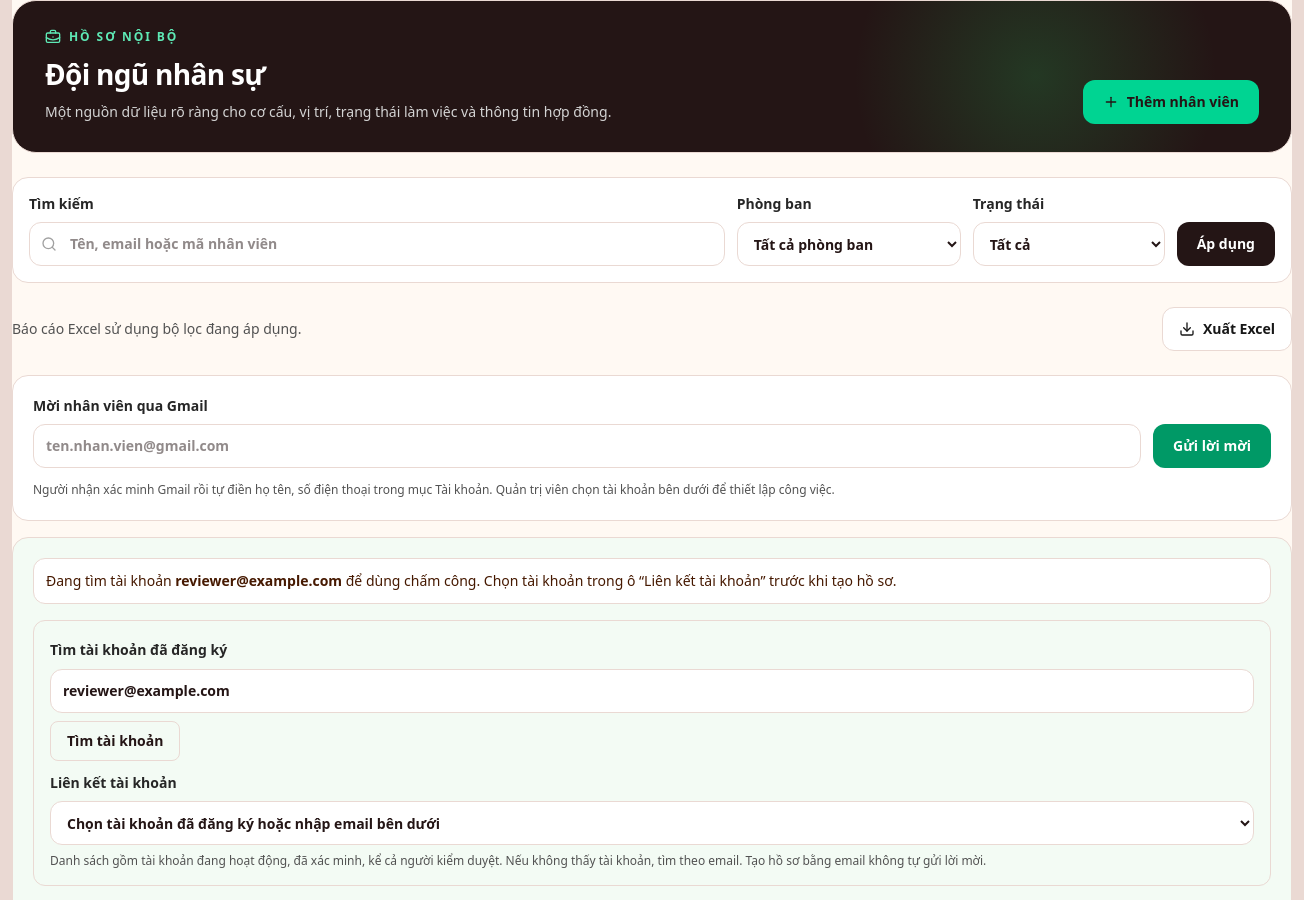
it: EmployeeWorkspace › requires a linked account when opened from attendance setup
This screenshot has width=1304, height=900.
Check: the text "Đang tìm tài khoản" is shown, box [46, 571, 175, 590]
Select "Nguyễn Kiểm Duyệt · reviewer@example.com" in the dropdown labelled "Liên kết tài khoản": (652, 823) [50, 801, 1254, 845]
(page scrolled)
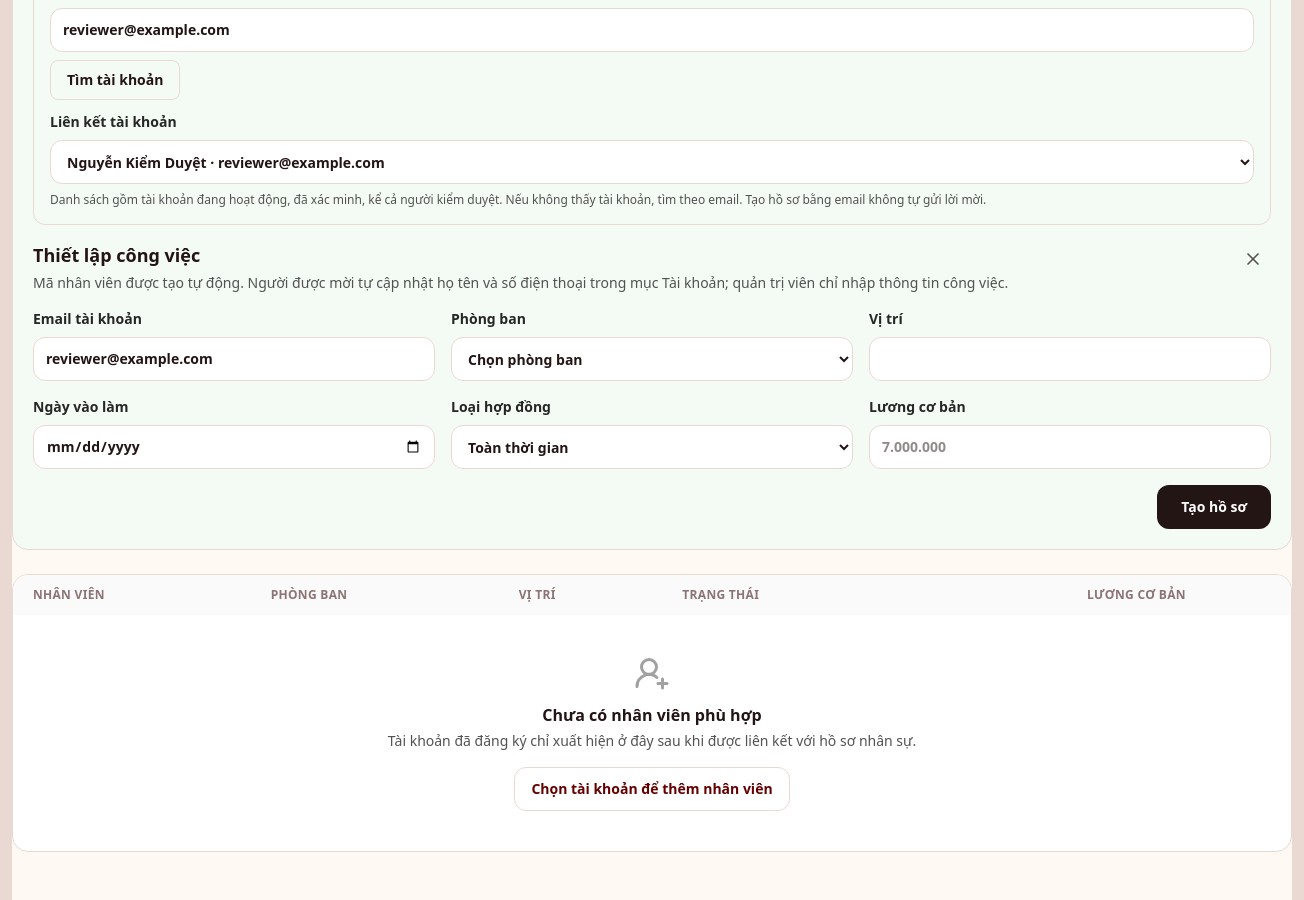
Check: the button "Tạo hồ sơ" is enabled, box [1157, 485, 1271, 529]
